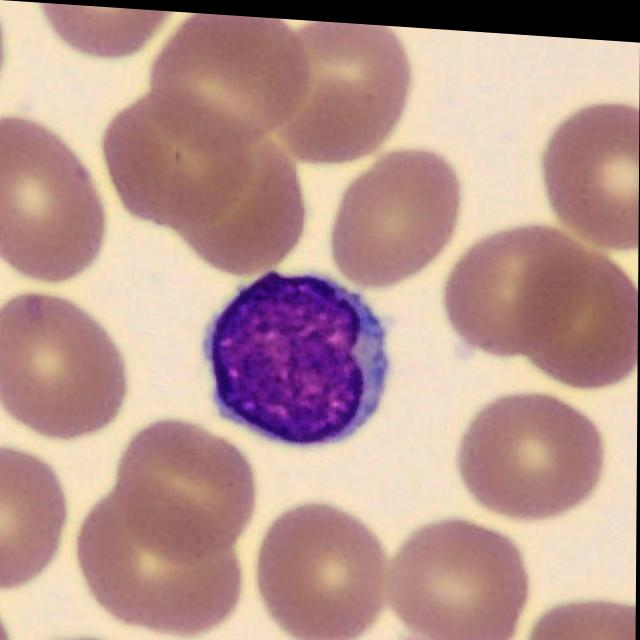Linfocito: (206, 264, 390, 441)
